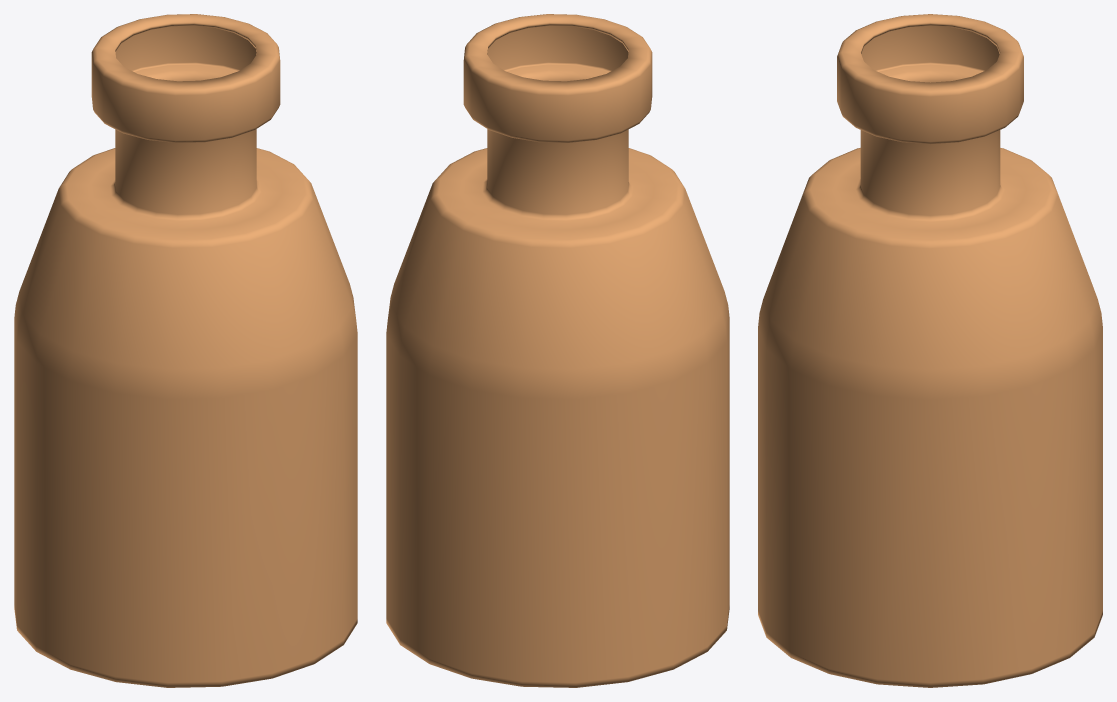
Rendered from Regeant_Bottle.fbx.
The picture shows the model from 3 angles, left to right: view 1: azimuth 30°, elevation 25°; view 2: azimuth 150°, elevation 25°; view 3: azimuth 270°, elevation 25°; orthographic projection.
Parts seen in each view (by area): view 1: Regeant_Bottle; view 2: Regeant_Bottle; view 3: Regeant_Bottle.
Boxes of the visible parts, x1,y1,x2,y2 form: Regeant_Bottle: (14,14,357,687); Regeant_Bottle: (386,14,729,687); Regeant_Bottle: (758,14,1102,687).
Size of the model in its own units: 7.64 by 13.76 by 7.64.
